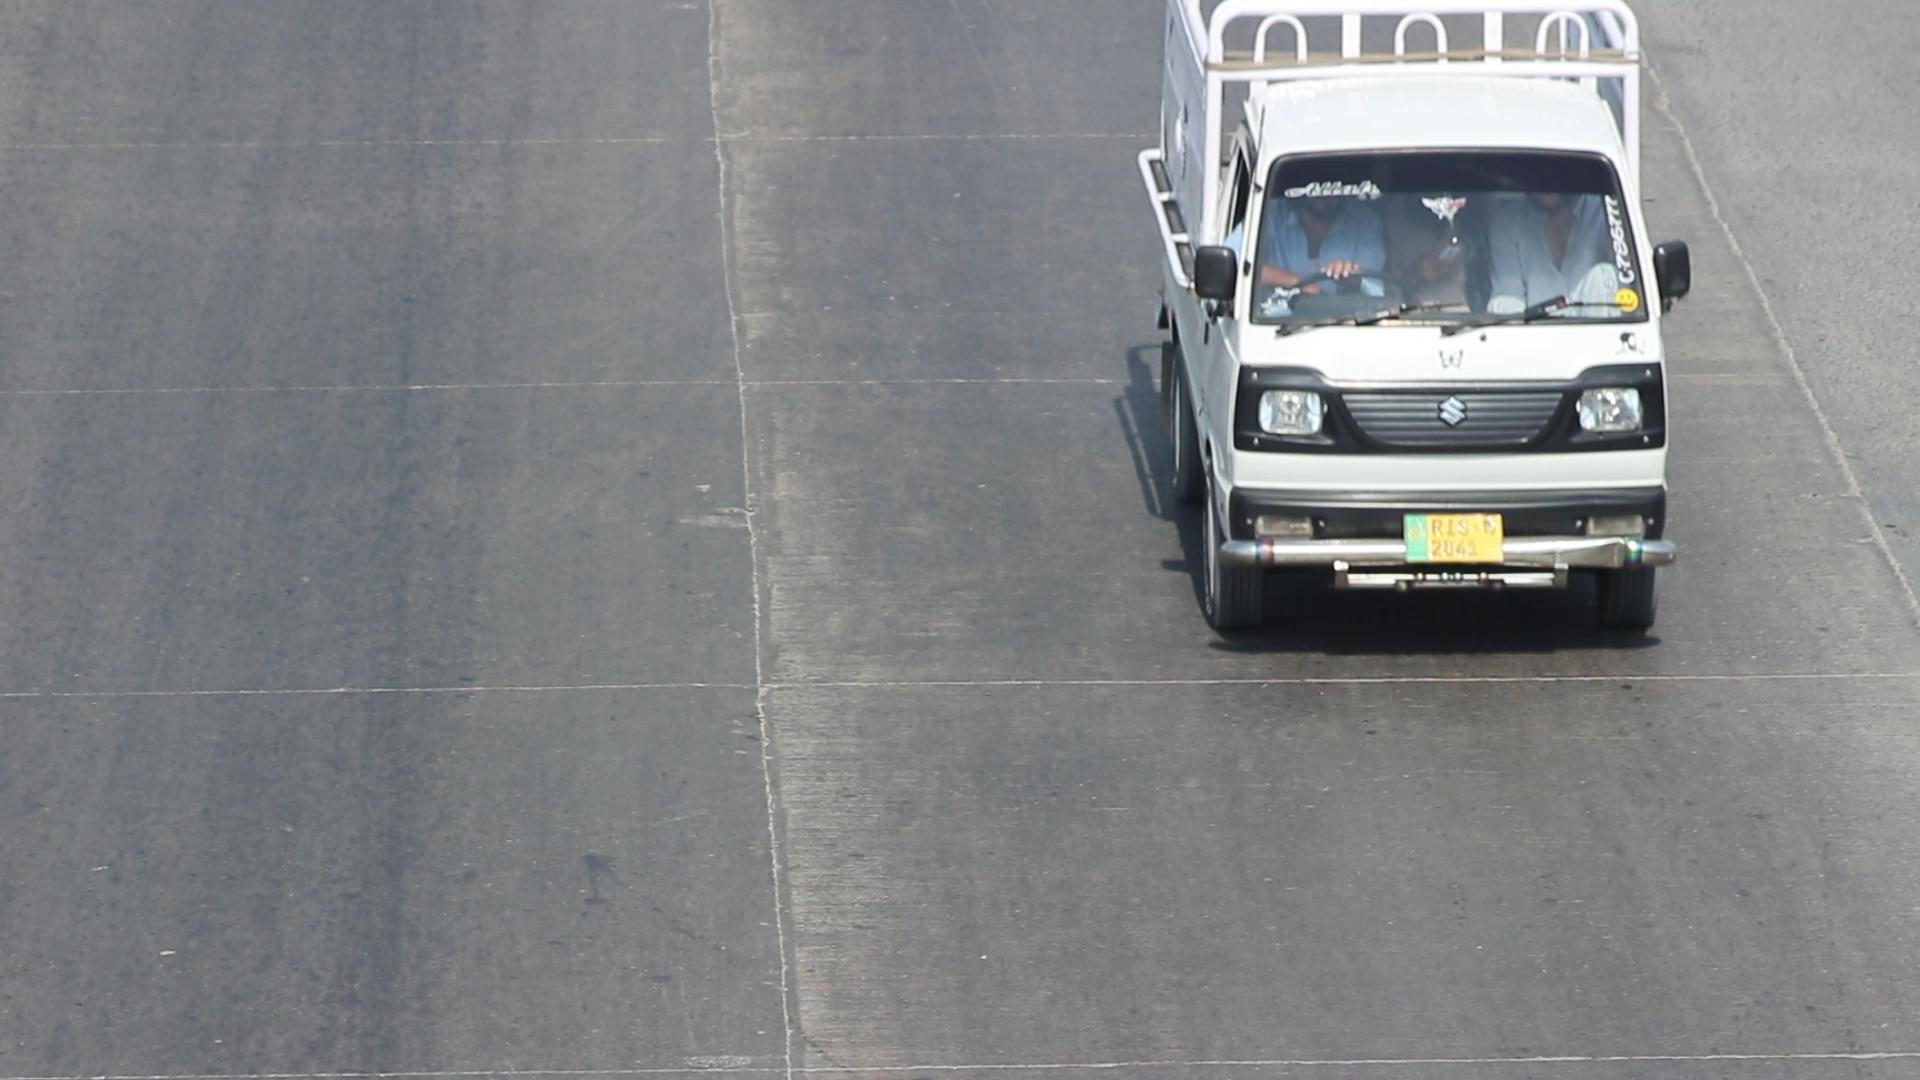windshield: (1228, 146, 1664, 353)
